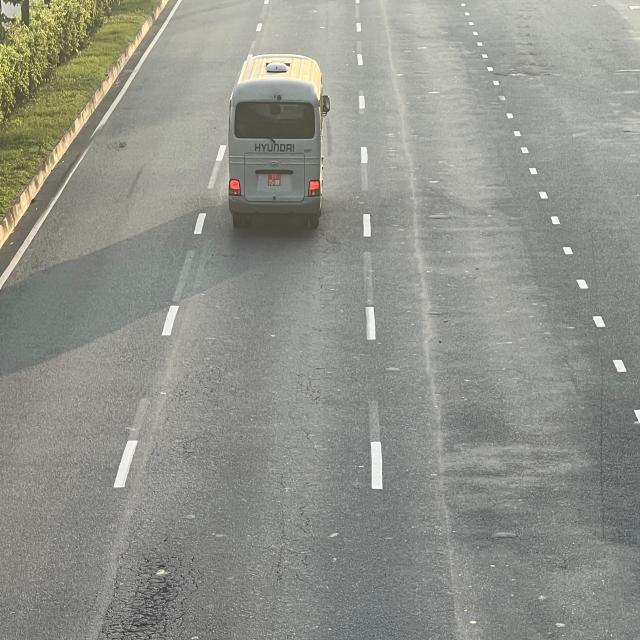coach: (231, 55, 334, 230)
